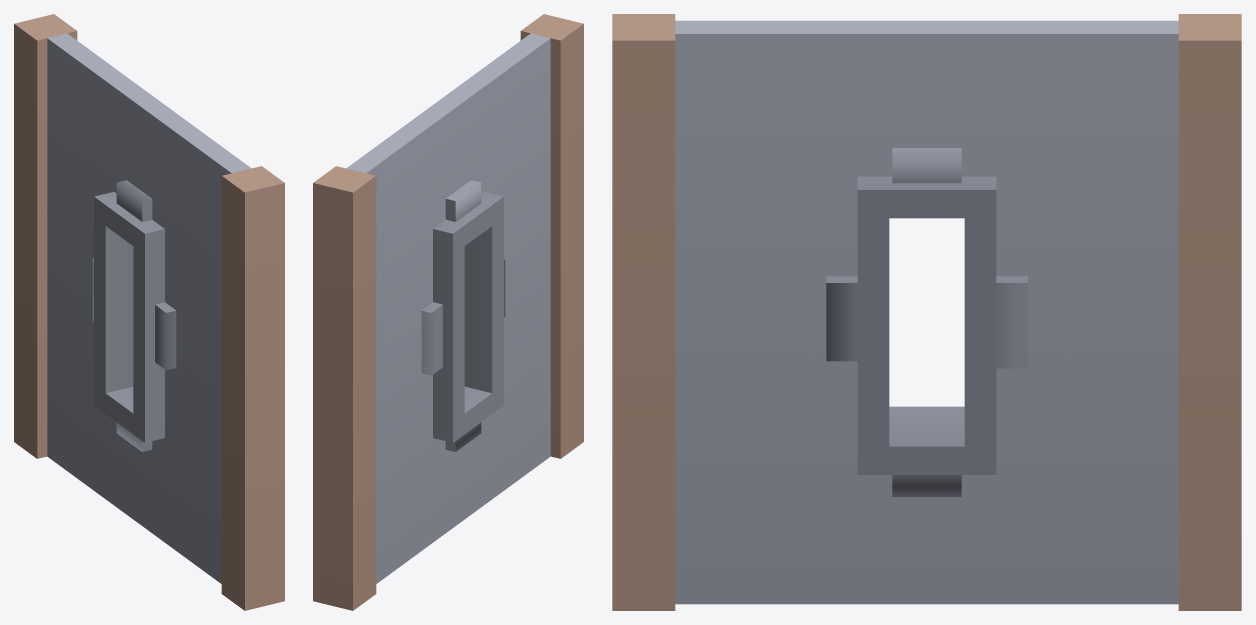
File: wall-window-stone.glb
The picture shows the model from 3 angles, left to right: view 1: azimuth 30°, elevation 25°; view 2: azimuth 150°, elevation 25°; view 3: azimuth 270°, elevation 25°; orthographic projection. The views are drawn at different scales.
Parts seen in each view (by area): view 1: wall-window-stone; view 2: wall-window-stone; view 3: wall-window-stone.
Part boxes in pixels (bbox=[...]): wall-window-stone: bbox=[14, 14, 284, 610]; wall-window-stone: bbox=[313, 14, 583, 610]; wall-window-stone: bbox=[612, 14, 1241, 610].
Bounding box in the file's own units: 0.15 × 1 × 1.
